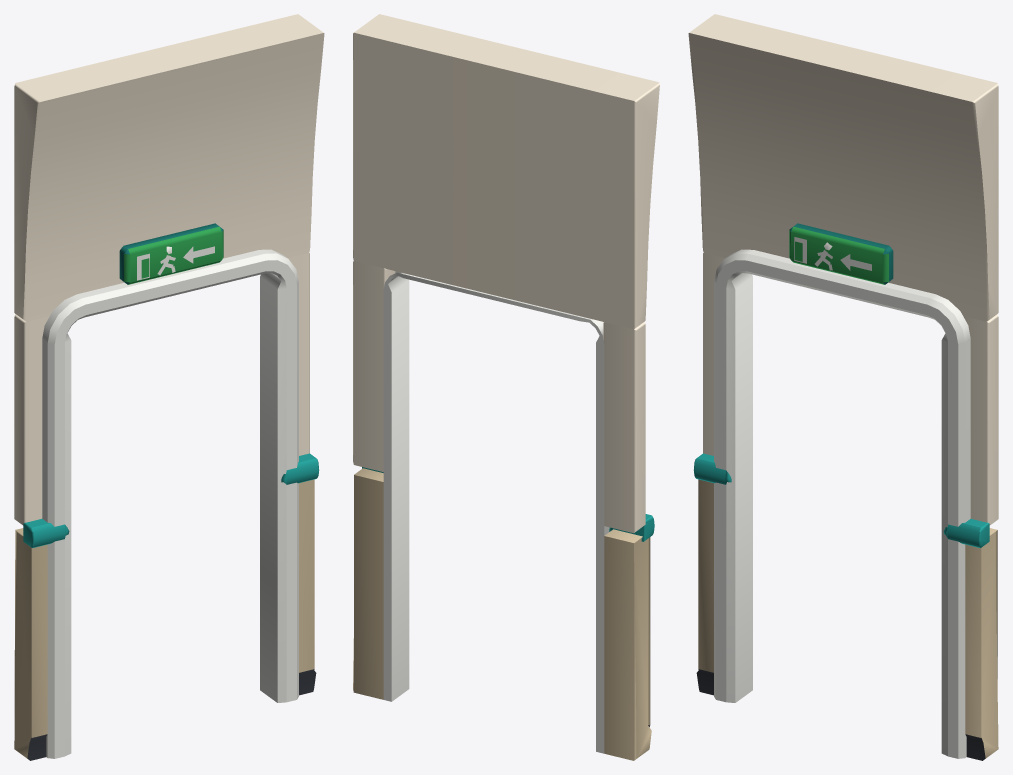
Rendered from PanelSalida.fbx.
3 renders of one model, left to right at view 1: azimuth 30°, elevation 25°; view 2: azimuth 150°, elevation 25°; view 3: azimuth 330°, elevation 25°, orthographic.
Visible parts, largest first — view 1: PanelSalida; view 2: PanelSalida; view 3: PanelSalida.
Part boxes in pixels (x1,y1,x2,y2): PanelSalida: [14, 14, 324, 760]; PanelSalida: [353, 14, 659, 760]; PanelSalida: [688, 14, 998, 760].
Bounding box in the file's own units: 4.5 × 10 × 0.7502.
1 material, 1 textured.
